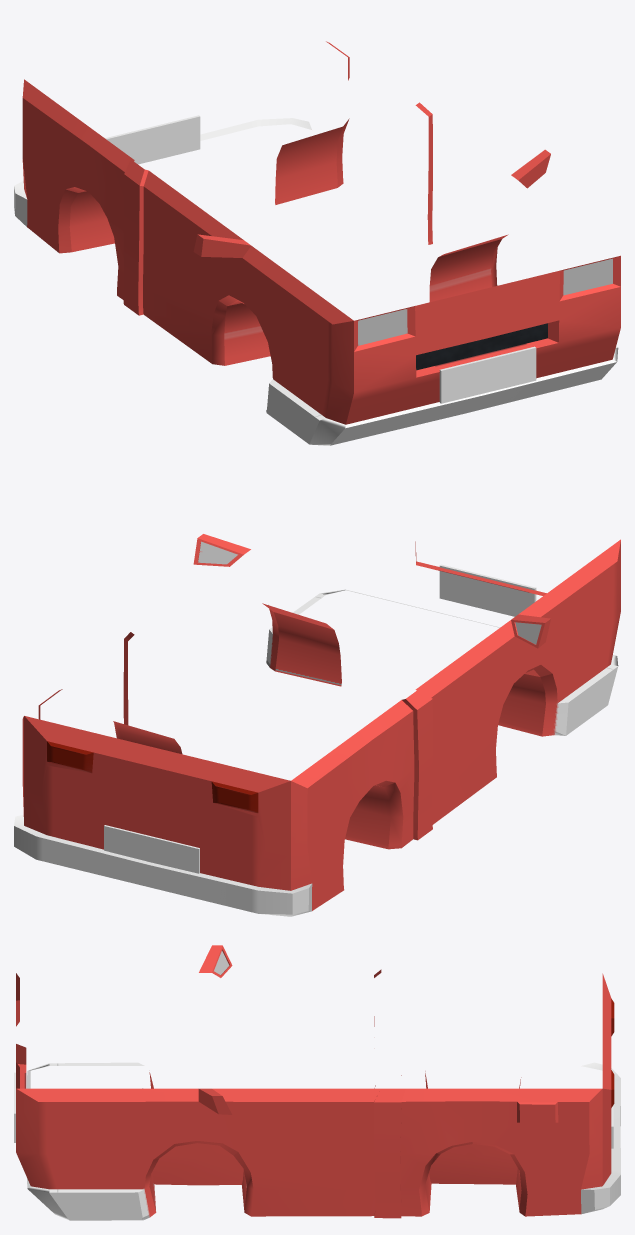
File: CLASSIC-BOTTOM-bAINzC3X.glb
3 views of the same model, one above another, from view 1: azimuth 30°, elevation 25°; view 2: azimuth 150°, elevation 25°; view 3: azimuth 270°, elevation 25° (orthographic). The views are drawn at different scales.
Size of the model in its own units: 1.95 by 0.818 by 3.33.
Materials: 2 (2 with a texture image).
